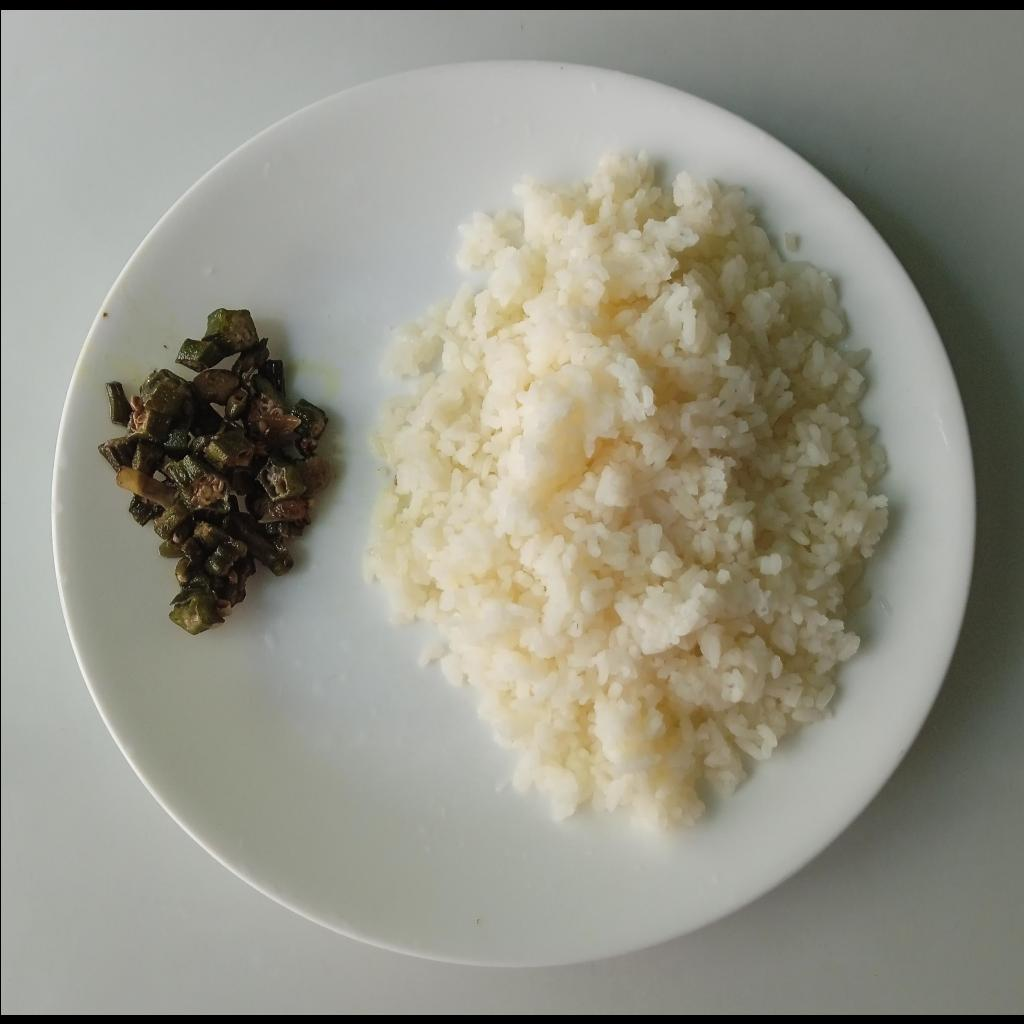okra: (93, 308, 335, 639)
rice: (364, 147, 890, 841)
